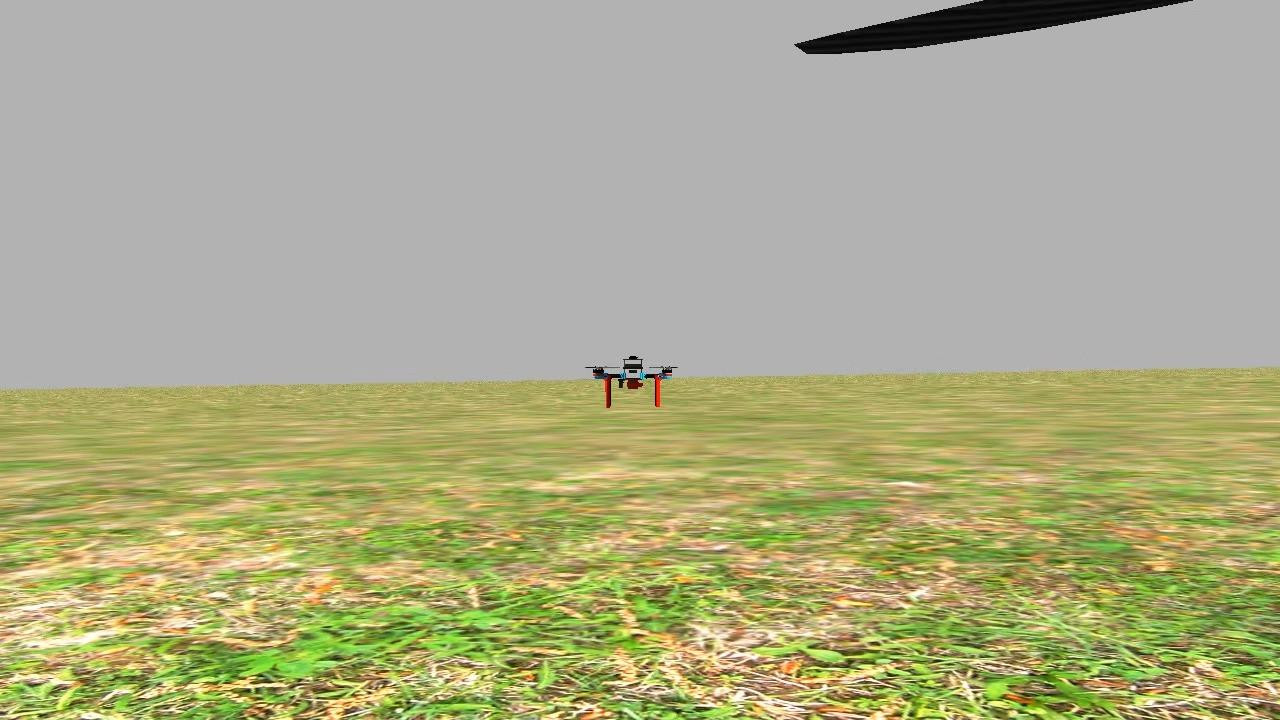UAV: (576, 344, 687, 419)
